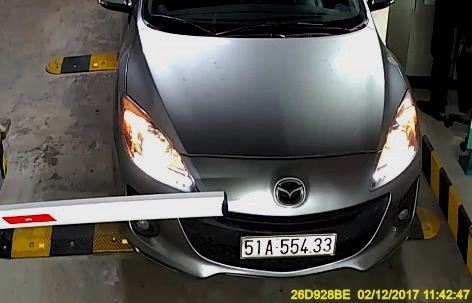plate: (234, 231, 336, 259)
